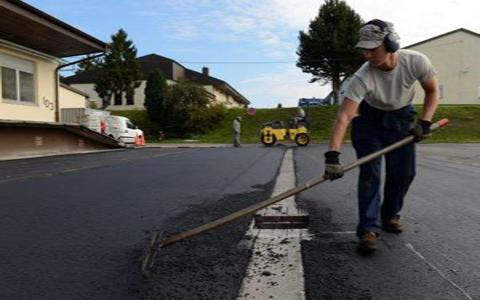Proper road: (16, 173, 131, 285), (161, 147, 272, 187)
